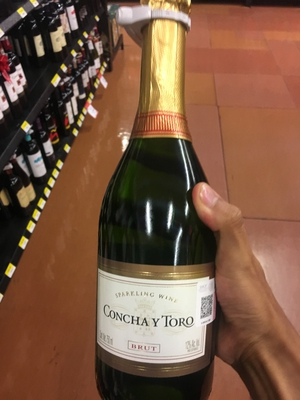brut: (96, 21, 217, 400)
